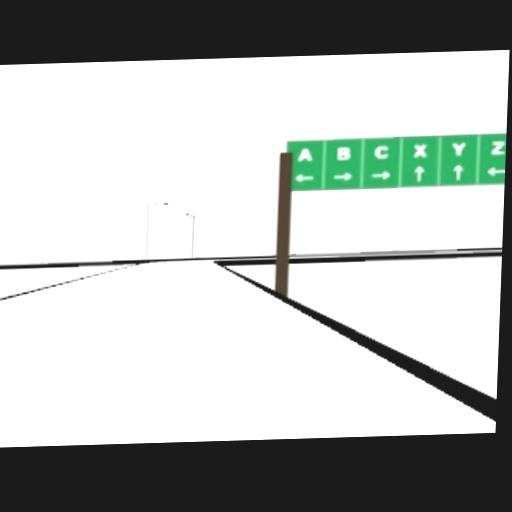A: (297, 146, 311, 160)
B: (336, 145, 350, 158)
C: (374, 144, 388, 157)
Left: (294, 173, 314, 181), (485, 167, 505, 175)
Right: (369, 168, 391, 179), (329, 171, 353, 180)
Straight: (413, 164, 425, 181), (452, 163, 464, 179)
X: (413, 141, 427, 156)
Y: (452, 140, 466, 154)
Z: (490, 139, 504, 153)
